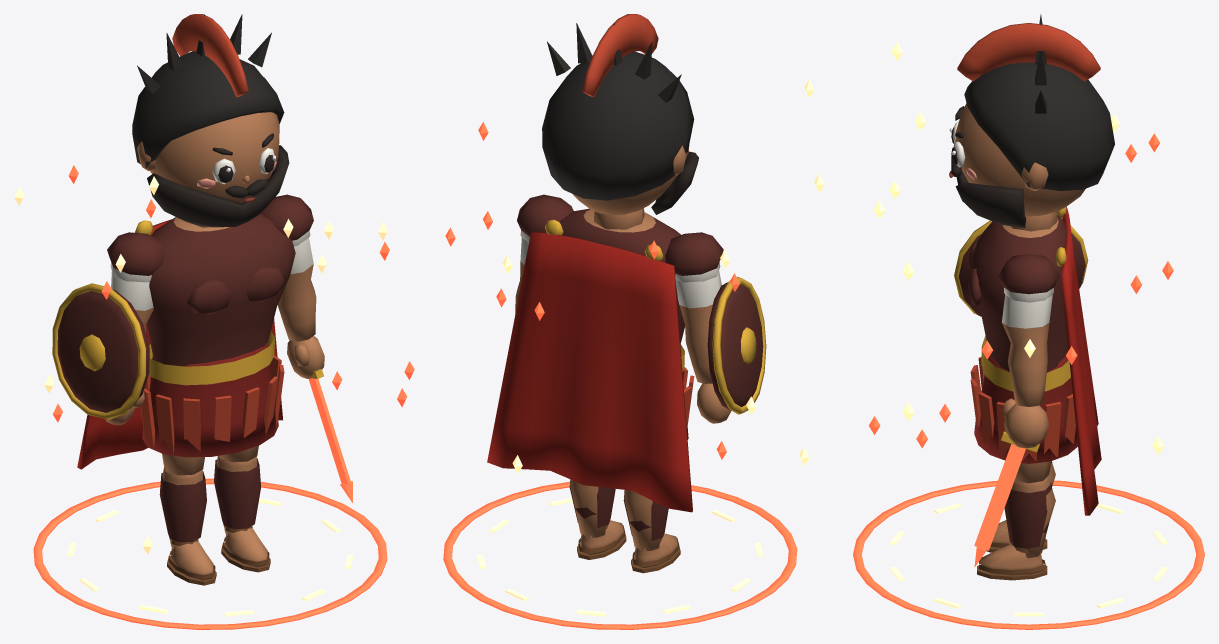
The model's file is ares.glb.
The picture shows the model from 3 angles, left to right: view 1: azimuth 30°, elevation 25°; view 2: azimuth 150°, elevation 25°; view 3: azimuth 270°, elevation 25°; orthographic projection.
Parts seen in each view (by area): view 1: rumpf, kopfschmuck, huefte, itemL, kopf, vfx_aura, armR, bart, knieL, knieR, armL, umhang (+5 smaller); view 2: umhang, kopfschmuck, itemL, vfx_aura, armL, rumpf, knieL, knieR, kopf, armR, bart, vfx_funken_0 (+1 smaller); view 3: kopfschmuck, armR, rumpf, vfx_aura, umhang, huefte, kopf, knieR, bart, itemR, itemL, vfx_funken_2 (+4 smaller).
Part boxes in pixels (box(x1,y1,x2,y2)): rumpf: box(146, 213, 295, 385); kopfschmuck: box(132, 14, 284, 167); huefte: box(140, 342, 284, 457); itemL: box(52, 283, 149, 419); kopf: box(137, 112, 279, 227); vfx_aura: box(33, 478, 387, 629); armR: box(260, 194, 324, 378); bart: box(147, 145, 289, 227); knieL: box(159, 467, 216, 585); knieR: box(214, 455, 270, 572); armL: box(105, 232, 164, 425); umhang: box(77, 219, 282, 469); umhang: box(487, 219, 692, 512); kopfschmuck: box(542, 14, 694, 200); itemL: box(707, 277, 766, 414); vfx_aura: box(443, 481, 797, 629); armL: box(665, 232, 731, 423); rumpf: box(559, 208, 684, 371); knieL: box(623, 490, 680, 573); knieR: box(569, 479, 626, 559); kopf: box(573, 145, 689, 229); armR: box(515, 194, 573, 313); bart: box(651, 151, 698, 214); vfx_funken_0: box(445, 122, 739, 459); kopfschmuck: box(957, 14, 1114, 190); armR: box(998, 253, 1059, 448); rumpf: box(968, 214, 1070, 391); vfx_aura: box(853, 480, 1204, 629); umhang: box(1056, 207, 1101, 515); huefte: box(970, 355, 1077, 463); kopf: box(956, 103, 1085, 231); knieR: box(977, 476, 1055, 580); bart: box(951, 156, 1025, 227); itemR: box(974, 431, 1039, 567); itemL: box(954, 219, 1088, 316); vfx_funken_2: box(868, 144, 1136, 448).
Size of the model in its own units: 1.5 by 2.48 by 1.48.
